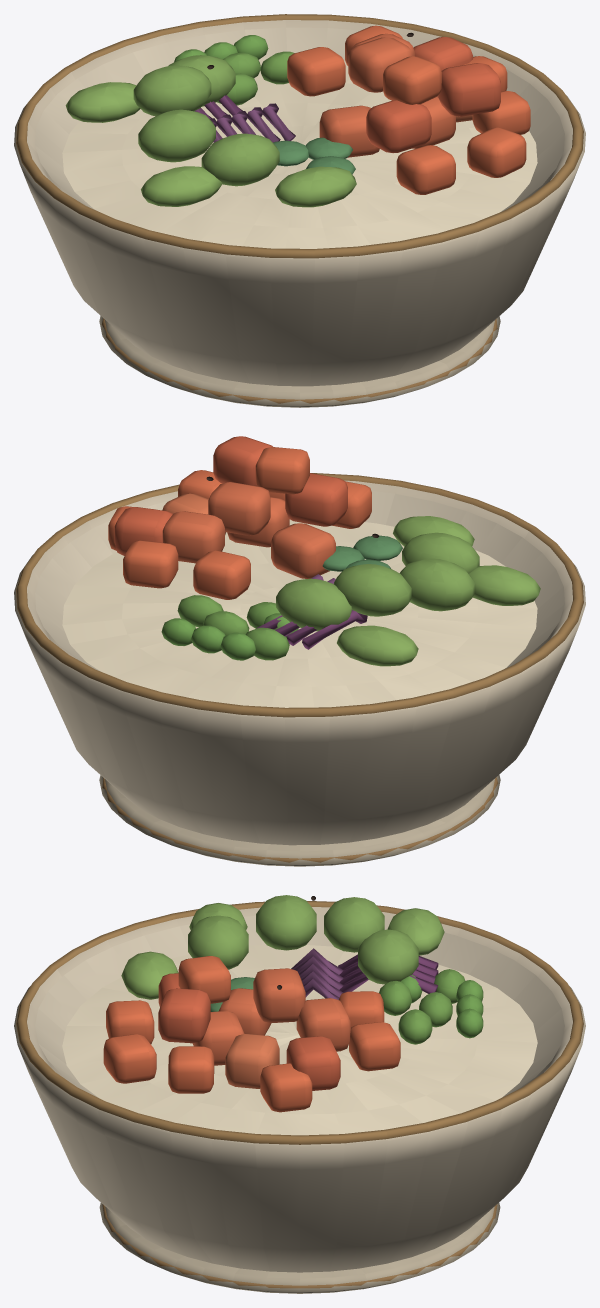
File: poke.glb
3 views of the same model, one above another, from view 1: azimuth 30°, elevation 25°; view 2: azimuth 150°, elevation 25°; view 3: azimuth 270°, elevation 25° (orthographic).
Visible parts, largest first — view 1: Shared_ivory_bowl, Mostly_hidden_rice_base, Thin_antique_brass_rim, Cream_inner_bowl, Short_stable_pedestal, Avocado_slice_1, Avocado_slice_0, Avocado_slice_2, Coral_salmon_cuboid_2, Coral_salmon_cuboid_3, Extra_avocado_fan_2, Extra_avocado_fan_0 (+19 smaller); view 2: Shared_ivory_bowl, Mostly_hidden_rice_base, Cream_inner_bowl, Thin_antique_brass_rim, Short_stable_pedestal, Avocado_slice_2, Avocado_slice_1, Avocado_slice_3, Coral_salmon_cuboid_5, Coral_salmon_cuboid_4, Extra_avocado_fan_1, Coral_salmon_cuboid_2 (+23 smaller); view 3: Shared_ivory_bowl, Mostly_hidden_rice_base, Cream_inner_bowl, Thin_antique_brass_rim, Short_stable_pedestal, Avocado_slice_1, Avocado_slice_3, Coral_salmon_cuboid_3, Avocado_slice_2, Coral_salmon_cuboid_4, Avocado_slice_0, Coral_salmon_cuboid_1 (+20 smaller).
Part boxes in pixels (<box>): Shared_ivory_bowl: <box>14,20,585,386</box>; Mostly_hidden_rice_base: <box>62,58,537,248</box>; Thin_antique_brass_rim: <box>16,14,583,258</box>; Cream_inner_bowl: <box>35,27,564,211</box>; Short_stable_pedestal: <box>99,316,500,407</box>; Avocado_slice_1: <box>138,109,215,162</box>; Avocado_slice_0: <box>201,133,279,186</box>; Avocado_slice_2: <box>133,65,211,116</box>; Coral_salmon_cuboid_2: <box>366,100,431,153</box>; Coral_salmon_cuboid_3: <box>438,63,500,116</box>; Extra_avocado_fan_2: <box>275,166,356,207</box>; Extra_avocado_fan_0: <box>141,166,222,206</box>; Shared_ivory_bowl: <box>14,480,585,845</box>; Mostly_hidden_rice_base: <box>62,519,537,707</box>; Cream_inner_bowl: <box>35,490,564,671</box>; Thin_antique_brass_rim: <box>16,473,583,717</box>; Short_stable_pedestal: <box>99,774,500,866</box>; Avocado_slice_2: <box>334,564,411,616</box>; Avocado_slice_1: <box>400,558,475,611</box>; Avocado_slice_3: <box>276,578,352,631</box>; Coral_salmon_cuboid_5: <box>271,523,335,578</box>; Coral_salmon_cuboid_4: <box>208,482,270,535</box>; Extra_avocado_fan_1: <box>337,625,418,666</box>; Coral_salmon_cuboid_2: <box>285,473,347,526</box>; Shared_ivory_bowl: <box>14,907,585,1272</box>; Mostly_hidden_rice_base: <box>62,945,537,1135</box>; Cream_inner_bowl: <box>35,914,564,1097</box>; Thin_antique_brass_rim: <box>16,901,583,1144</box>; Short_stable_pedestal: <box>99,1202,500,1293</box>; Avocado_slice_1: <box>256,895,316,950</box>; Avocado_slice_3: <box>358,929,418,984</box>; Coral_salmon_cuboid_3: <box>158,988,210,1043</box>; Avocado_slice_2: <box>324,897,384,952</box>; Coral_salmon_cuboid_4: <box>253,968,305,1023</box>; Avocado_slice_0: <box>188,915,248,969</box>; Coral_salmon_cuboid_1: <box>225,1033,279,1088</box>.
Size of the model in its own units: 0.842 by 0.4595 by 0.842.
